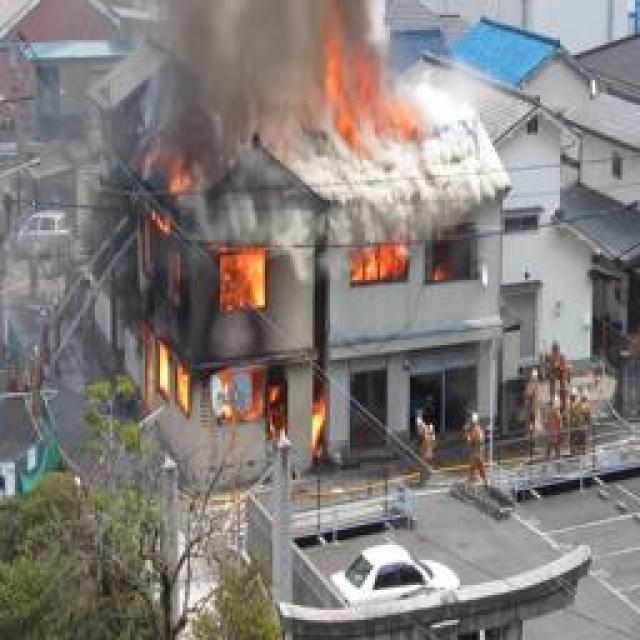Fire: (140, 152, 328, 460), (316, 11, 422, 147), (352, 235, 453, 292)
